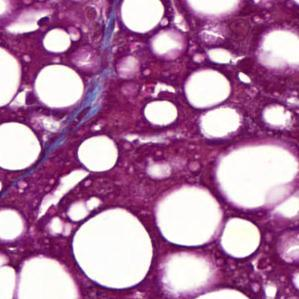steatosis: (72, 208, 154, 291), (0, 122, 41, 171), (119, 0, 163, 36), (144, 98, 177, 129)
